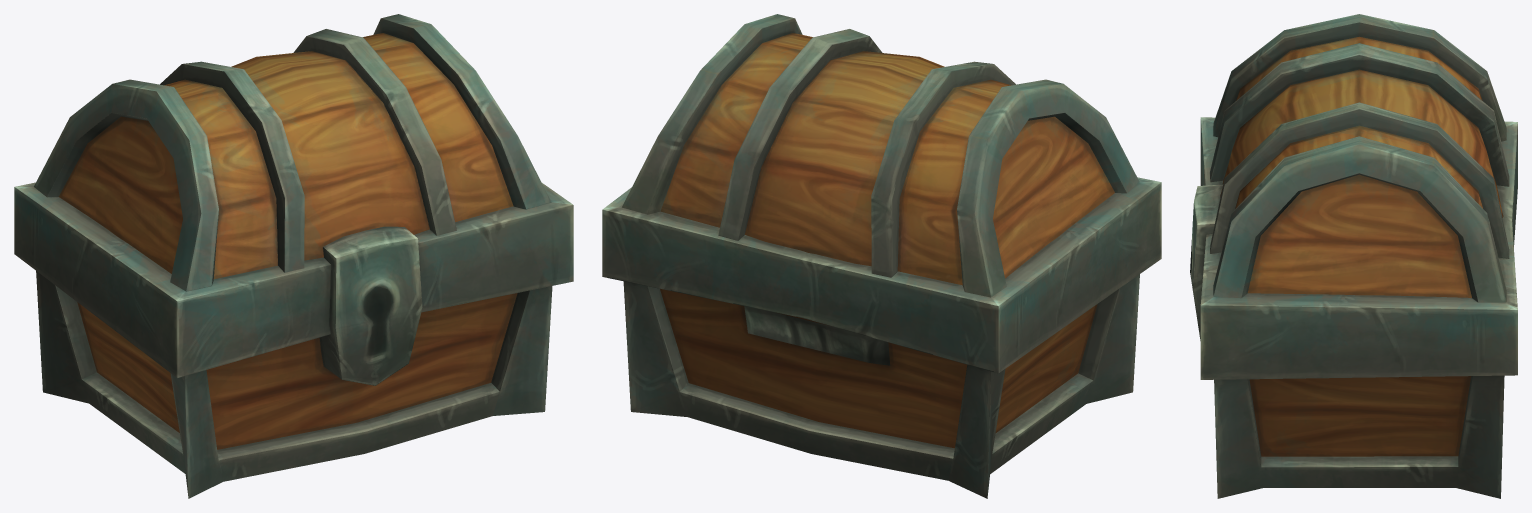
File: chest1.fbx
3 views of the same model, side by side, from view 1: azimuth 30°, elevation 25°; view 2: azimuth 150°, elevation 25°; view 3: azimuth 270°, elevation 25° (orthographic). The views are drawn at different scales.
Visible parts, largest first — view 1: Box001; view 2: Box001; view 3: Box001.
Part boxes in pixels (x1,y1,x2,y2): Box001: (14,14,573,498); Box001: (602,14,1161,498); Box001: (1190,14,1517,498).
Bounding box in the file's own units: 95.39 × 79.99 × 70.3.
